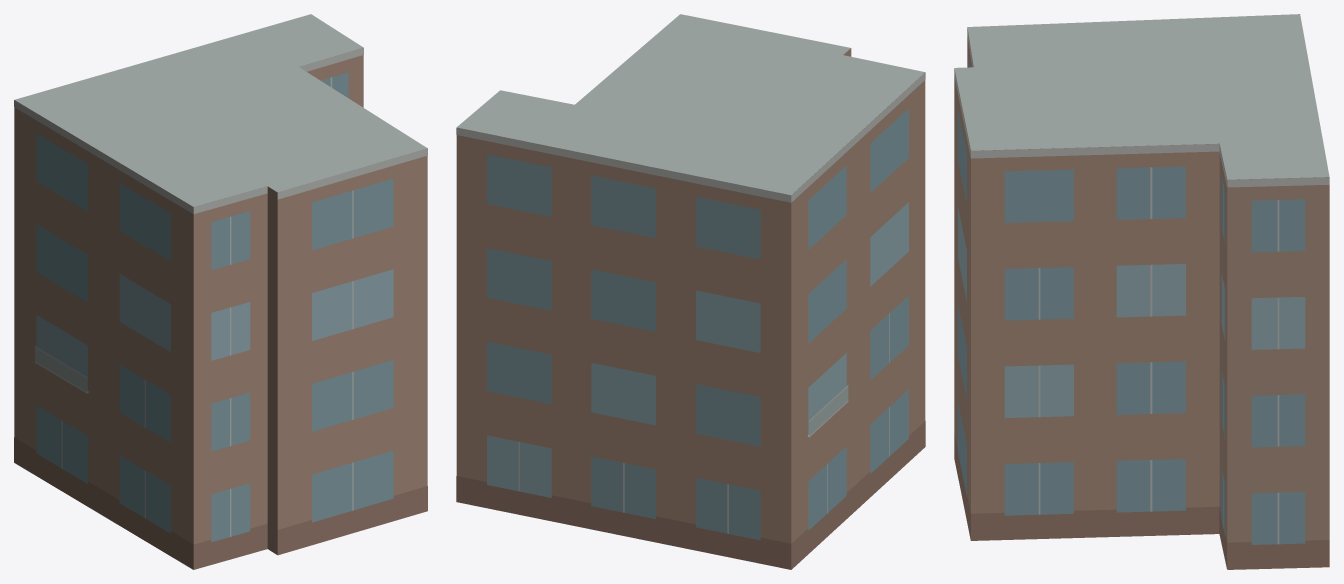
The model's file is survey-upis-32577430.glb.
The picture shows the model from 3 angles, left to right: view 1: azimuth 30°, elevation 25°; view 2: azimuth 150°, elevation 25°; view 3: azimuth 270°, elevation 25°; orthographic projection. The views are drawn at different scales.
Parts seen in each view (by area): view 1: survey-upis-32577430.tmp; view 2: survey-upis-32577430.tmp; view 3: survey-upis-32577430.tmp.
Boxes of the visible parts, x1,y1,x2,y2 form: survey-upis-32577430.tmp: (14, 14, 427, 569); survey-upis-32577430.tmp: (456, 14, 925, 569); survey-upis-32577430.tmp: (954, 14, 1329, 569).
Bounding box in the file's own units: 11.12 × 12.2 × 10.64.
